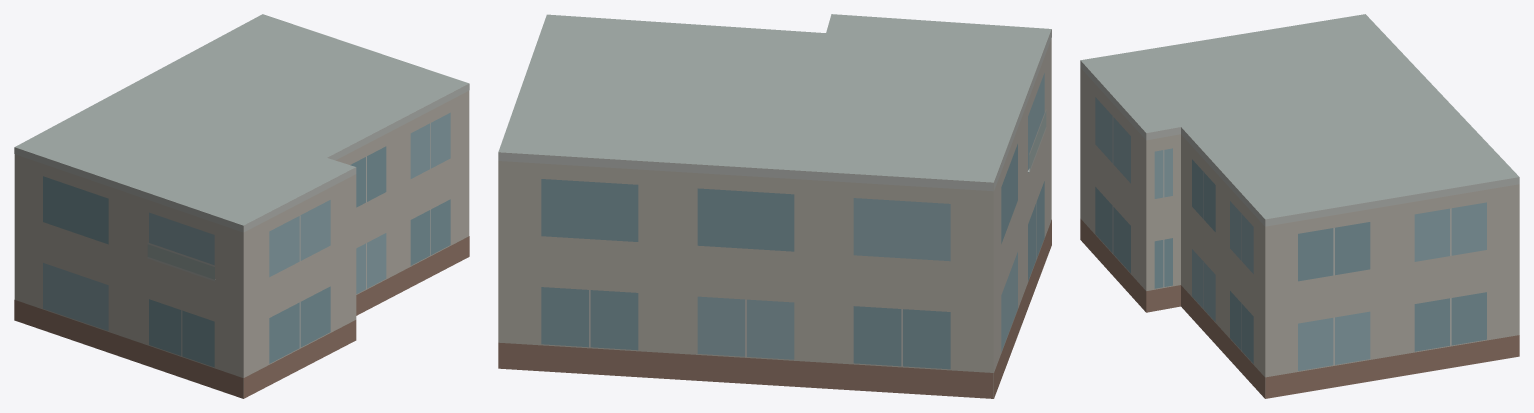
File: survey-upis-33015844.glb
3 renders of one model, left to right at view 1: azimuth 30°, elevation 25°; view 2: azimuth 150°, elevation 25°; view 3: azimuth 270°, elevation 25°, orthographic. The views are drawn at different scales.
Parts seen in each view (by area): view 1: survey-upis-33015844.tmp; view 2: survey-upis-33015844.tmp; view 3: survey-upis-33015844.tmp.
Boxes of the visible parts, <box> form: survey-upis-33015844.tmp: <box>14,14,469,398</box>; survey-upis-33015844.tmp: <box>498,14,1051,398</box>; survey-upis-33015844.tmp: <box>1080,14,1519,398</box>.
Size of the model in its own units: 14.99 by 6.1 by 13.55.
